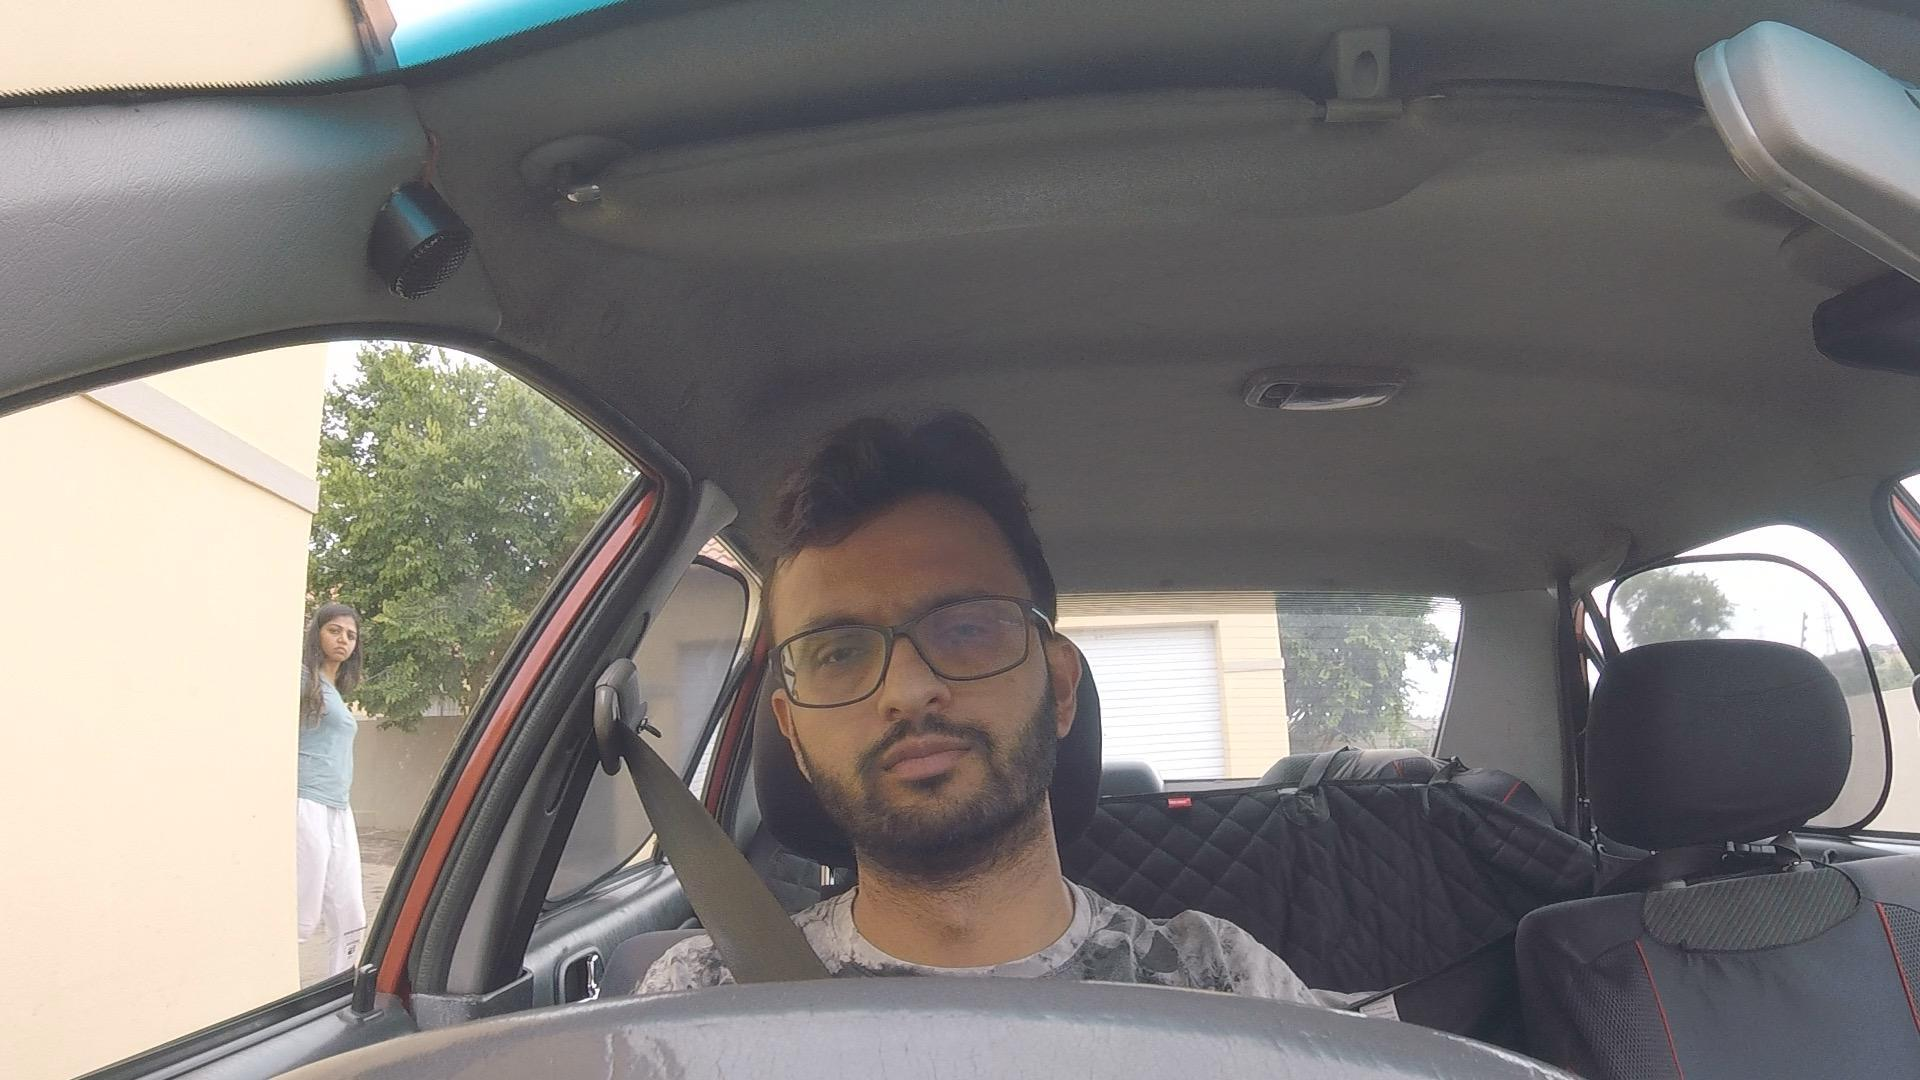SafeDriving: (760, 406, 1087, 872)
